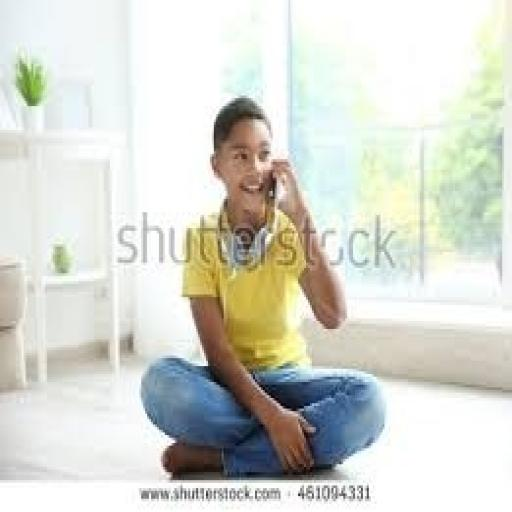calling: (138, 93, 386, 480)
